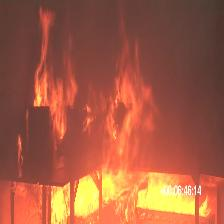fire: (49, 180, 200, 215), (114, 86, 146, 146), (32, 82, 73, 116)
